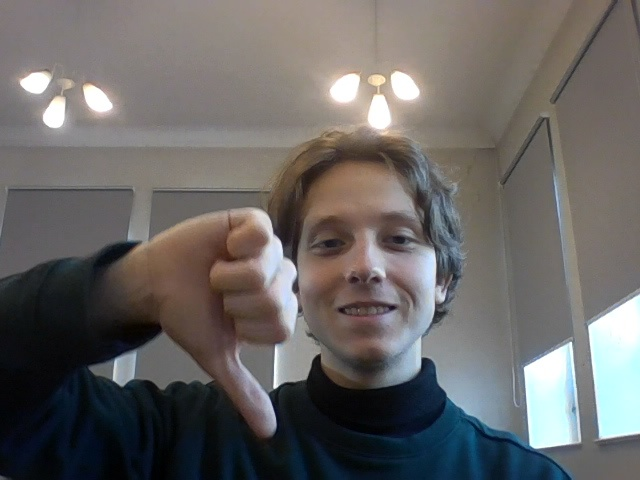no: (135, 204, 298, 451)
